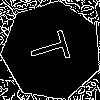T: (27, 26, 80, 69)
